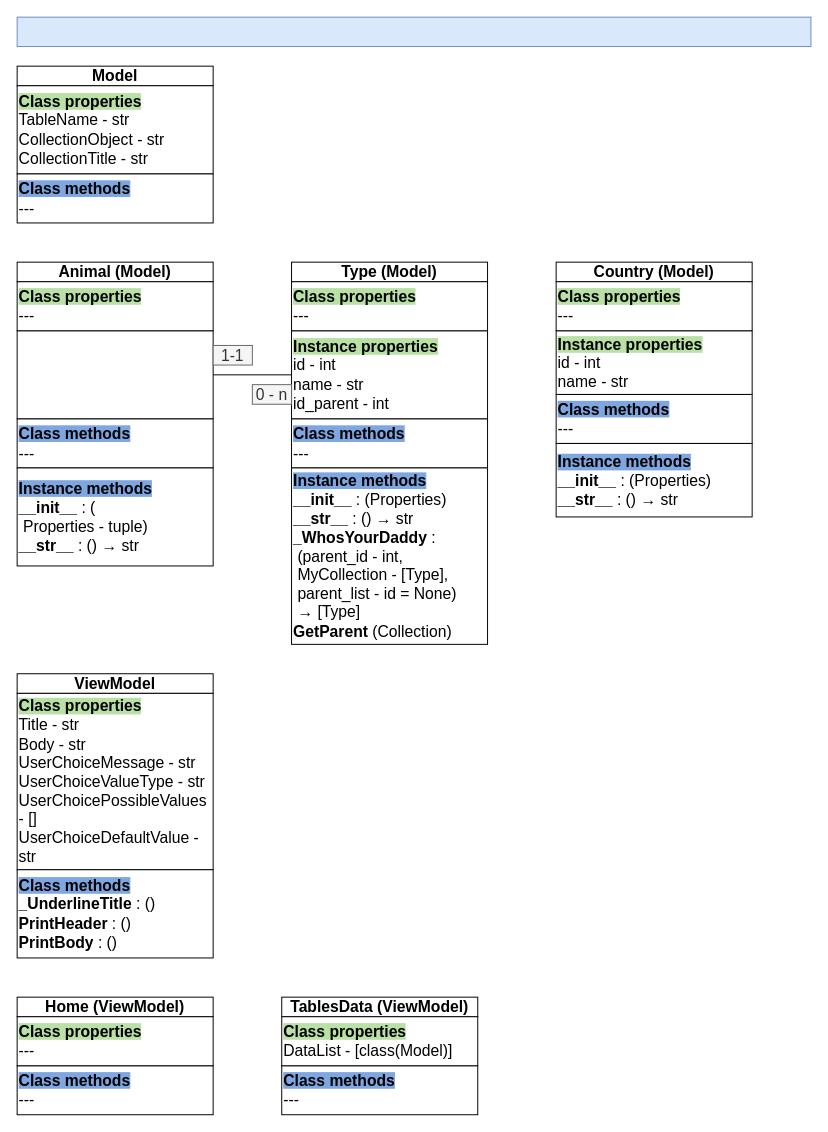
The diagram is 828 pixels wide and 1132 high, and some of its shapes have lost their labels. The shapes that lost their labels are listed below. From the top down, each one's centre as x and y in pixels, then its label:
At (413,31): "Class diagram for Dojo Animal application".
At (114,374): "Instance properties id - int name - str id_type - int".
